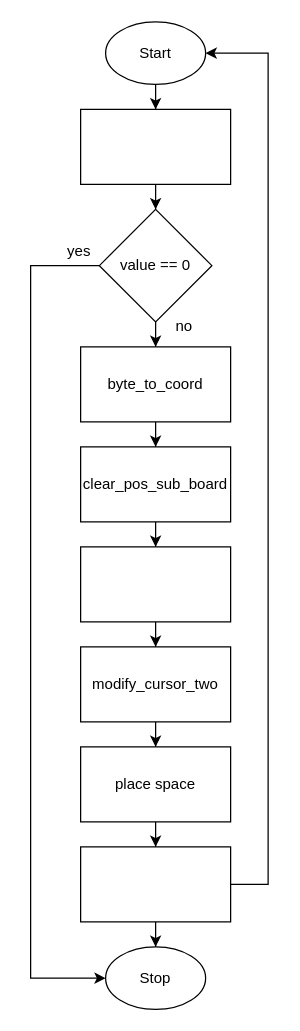
The diagram is 300 pixels wide and 1031 high, and some of its shapes have lost their labels. The centre of each missing label's shape, as x and y in pixels:
get_cursor_pos: (x=155, y=584)
increment to color starting point: (x=155, y=146)
store null: (x=155, y=884)
